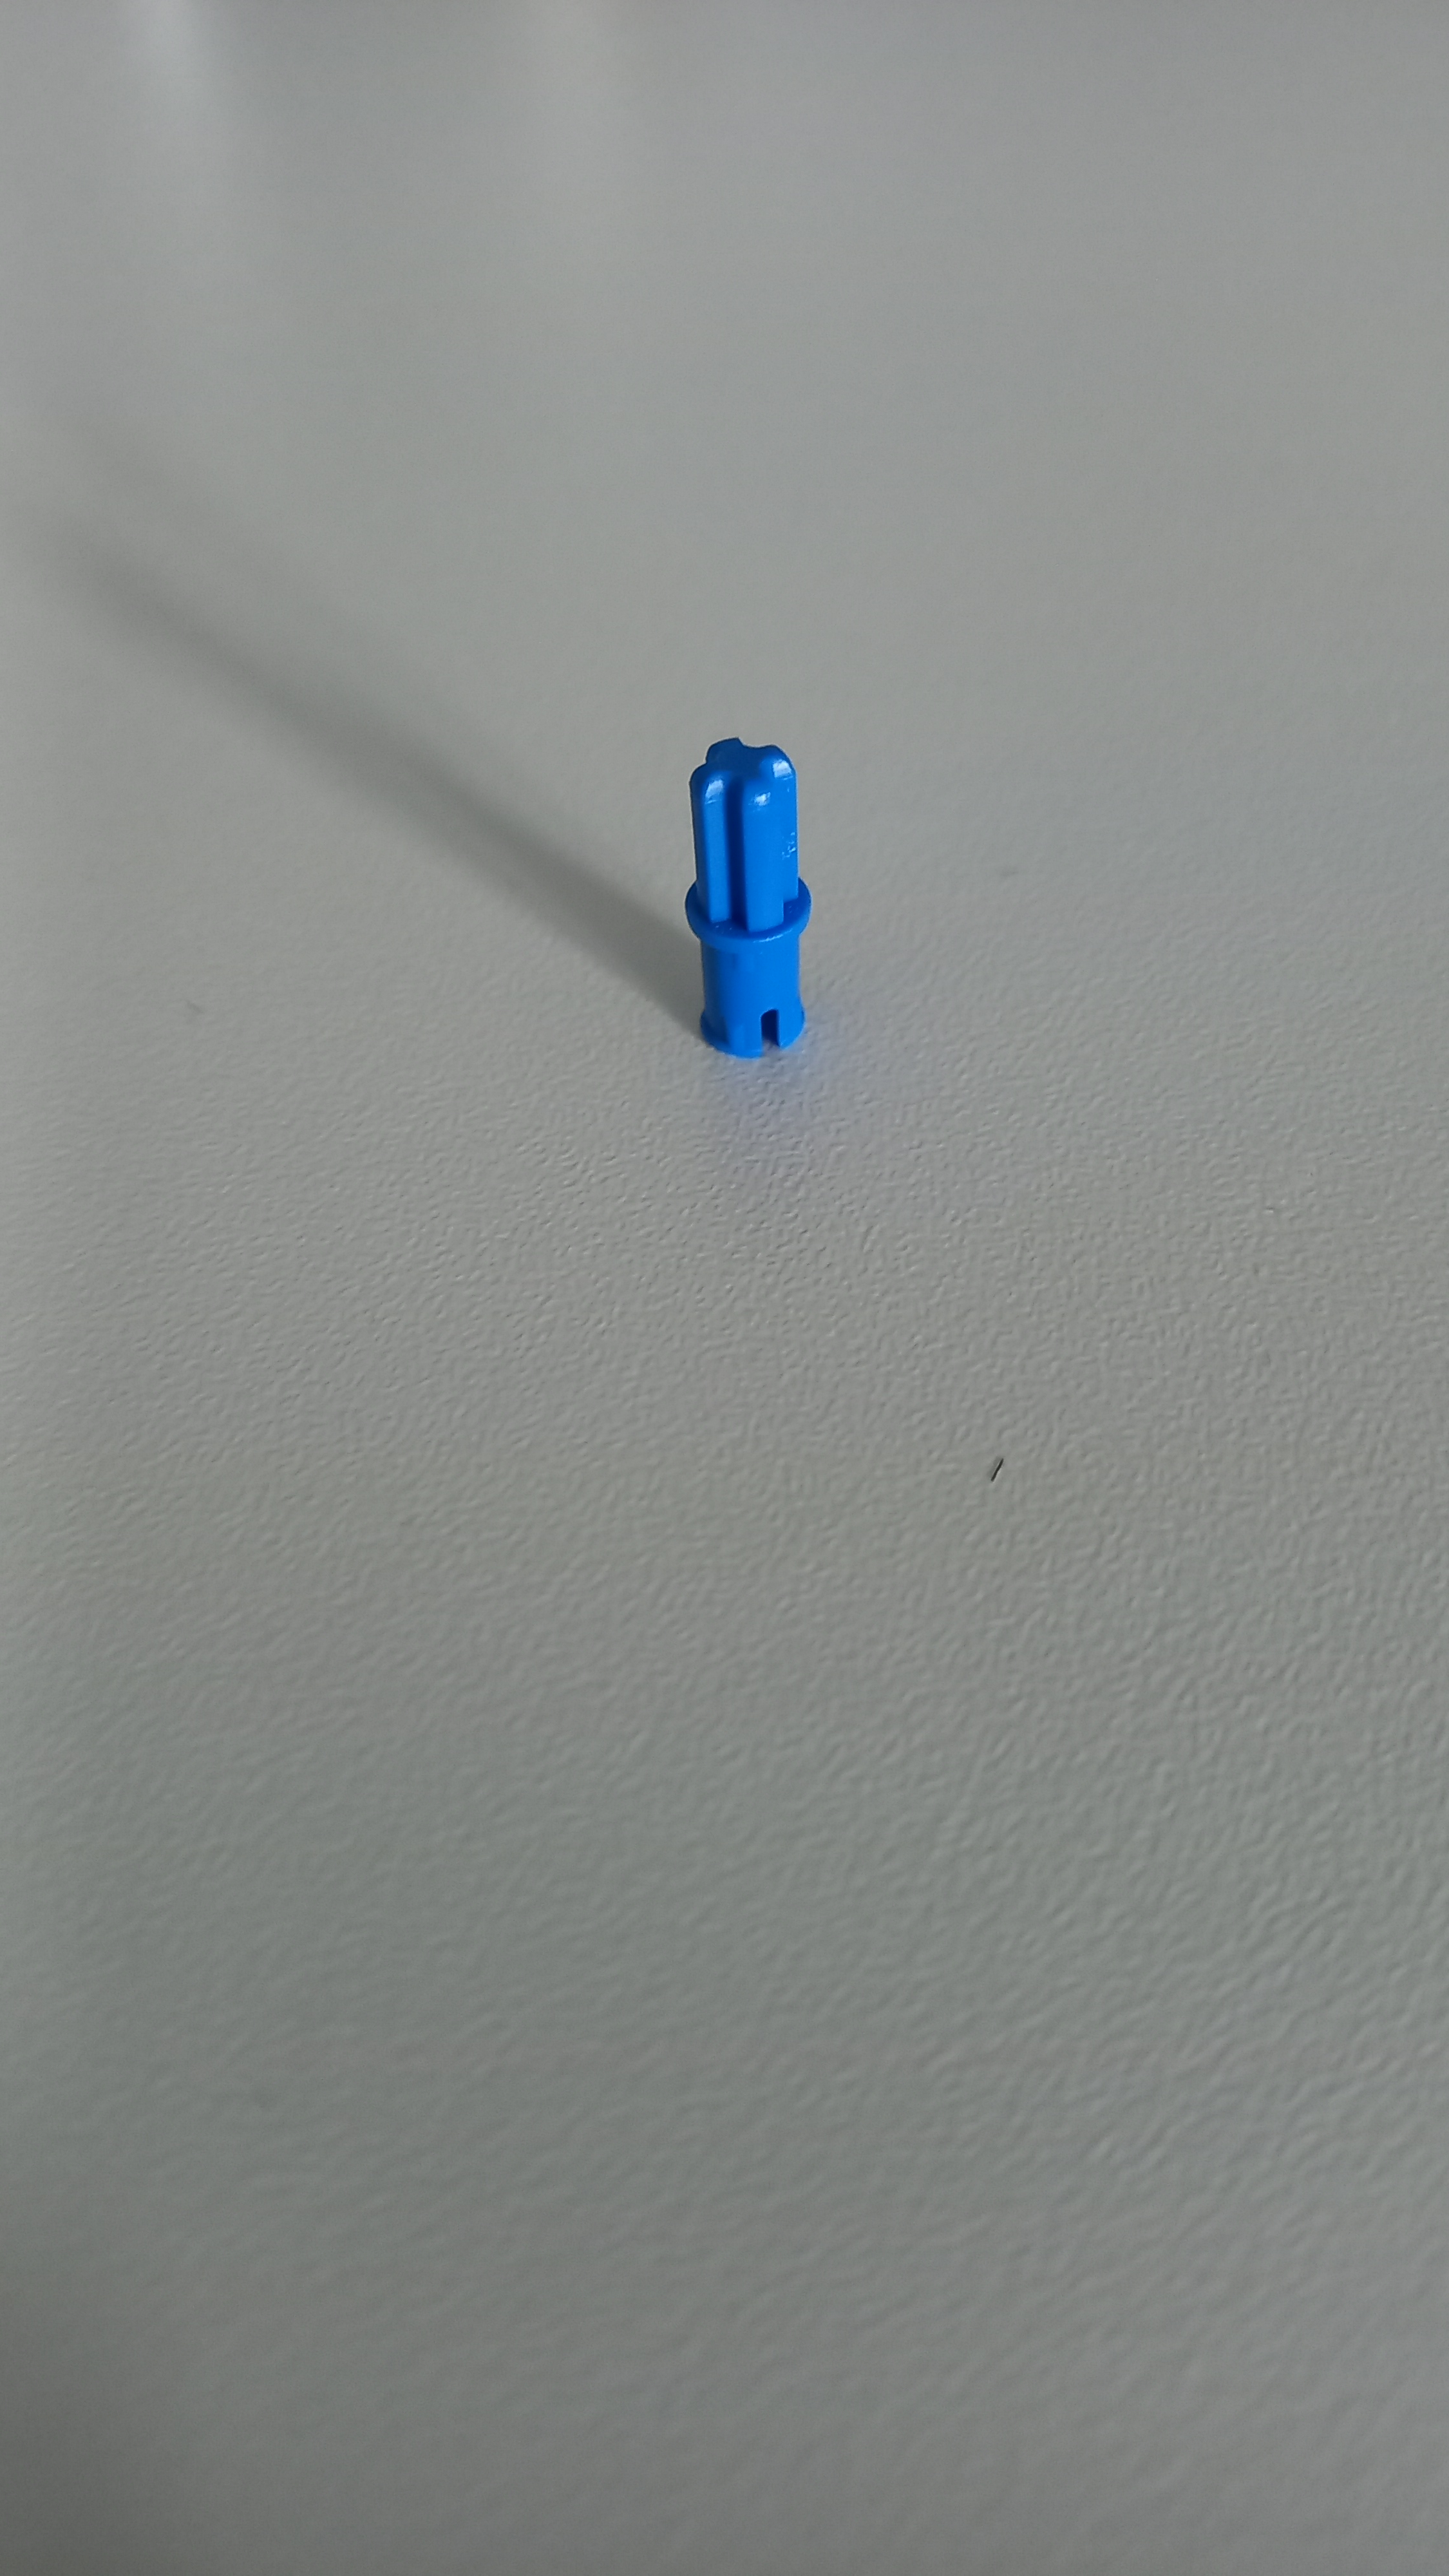Blau: (667, 718, 828, 1083)
